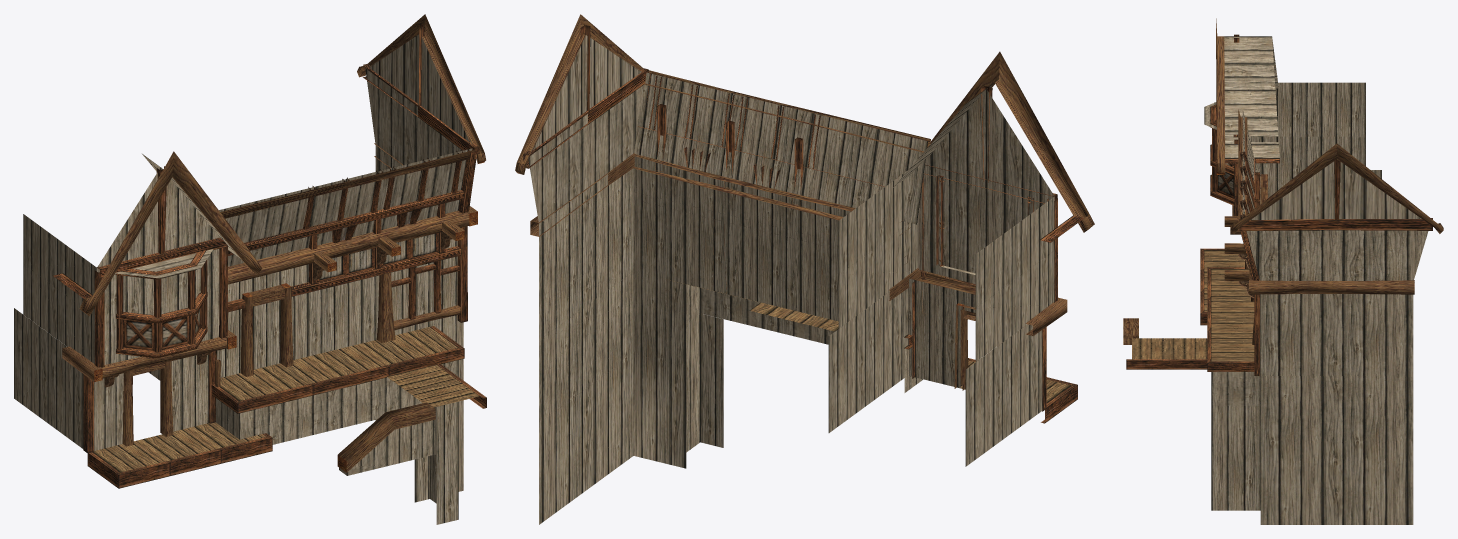
Rendered from LAKETOWN_EXTERIOR_PS_LT_CORNERFISHHOUSE99__GX.fbx.
3 renders of one model, left to right at view 1: azimuth 30°, elevation 25°; view 2: azimuth 150°, elevation 25°; view 3: azimuth 270°, elevation 25°, orthographic. The views are drawn at different scales.
Parts seen in each view (by area): view 1: LAKETOWN_EXTERIOR_PS_LT_CORNERFISHHOUSE99__GX; view 2: LAKETOWN_EXTERIOR_PS_LT_CORNERFISHHOUSE99__GX; view 3: LAKETOWN_EXTERIOR_PS_LT_CORNERFISHHOUSE99__GX.
Part boxes in pixels (left/top/right/bottom): LAKETOWN_EXTERIOR_PS_LT_CORNERFISHHOUSE99__GX: left=14, top=14, right=486, bottom=524; LAKETOWN_EXTERIOR_PS_LT_CORNERFISHHOUSE99__GX: left=515, top=14, right=1094, bottom=524; LAKETOWN_EXTERIOR_PS_LT_CORNERFISHHOUSE99__GX: left=1123, top=18, right=1443, bottom=524.
Size of the model in its own units: 145327 by 149262 by 112831.
Materials: 11 (11 with a texture image).
